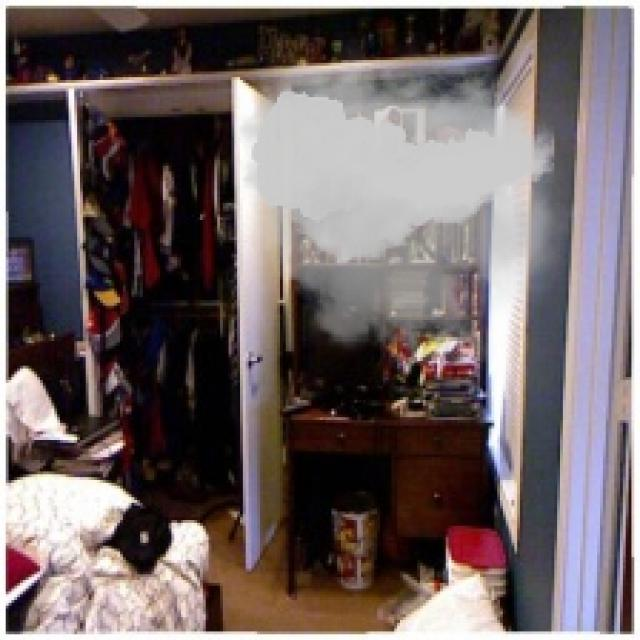smoke: (229, 31, 577, 386)
